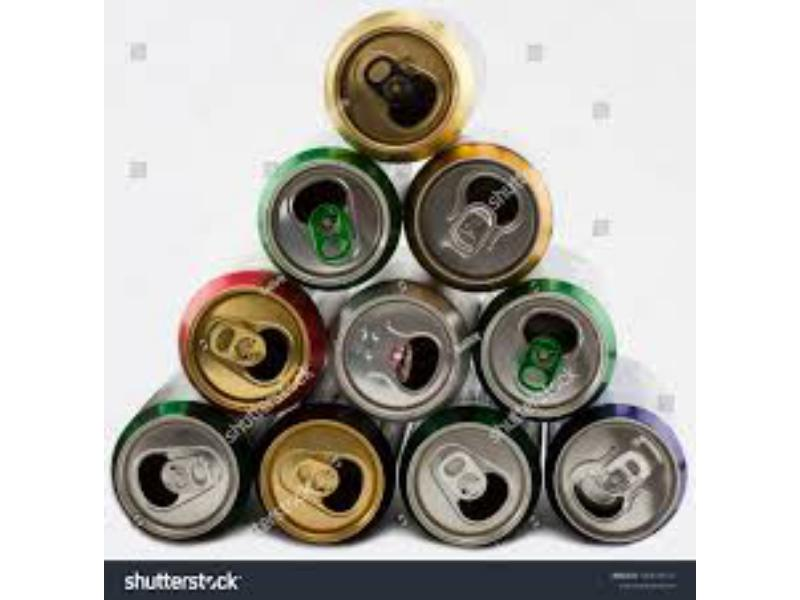can: (319, 16, 479, 160), (406, 151, 573, 282), (252, 146, 399, 286), (182, 277, 324, 421), (479, 280, 628, 416), (330, 284, 475, 421), (396, 416, 547, 547), (107, 407, 248, 545), (548, 412, 687, 549), (254, 414, 399, 544)
